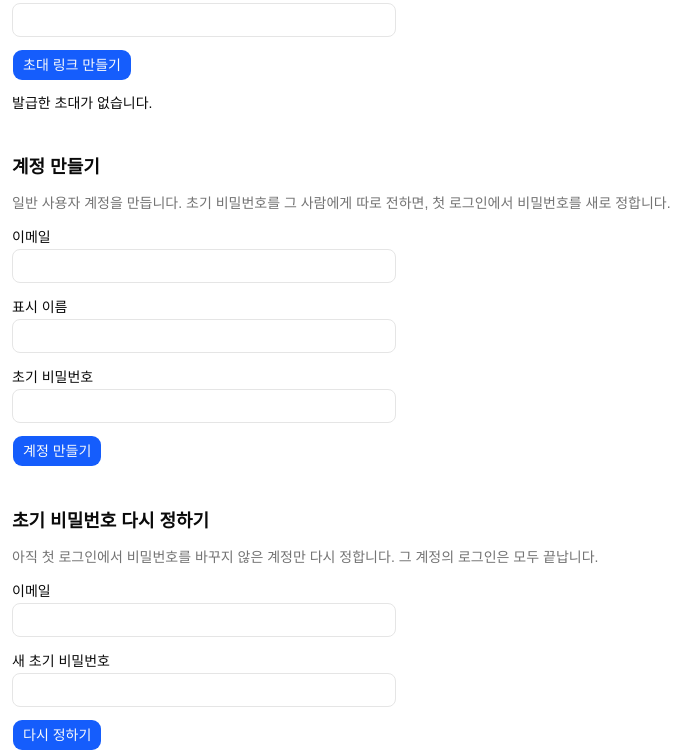
it: AccountsPage › 초기 비밀번호를 다시 정하거나, 바꾼 계정 · 없는 계정이면 그렇다고 알린다
(page scrolled)
In the 2nd field labelled "이메일": (204, 620) 12,603 -> 396,637, type "park@example.com"
In the password field labelled "새 초기 비밀번호": (204, 690) 12,673 -> 396,707, type "another initial horse"
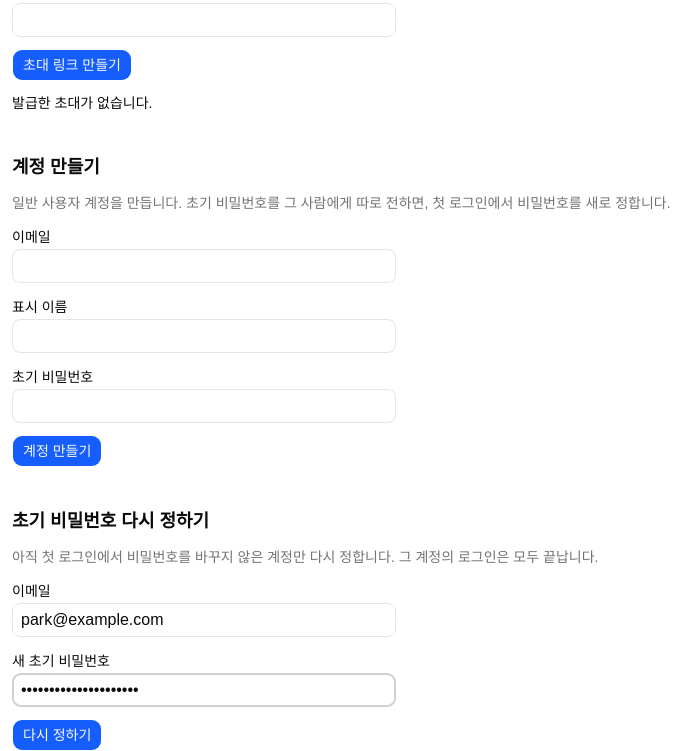
Click the button "다시 정하기": (57, 735) 12,719 -> 102,750
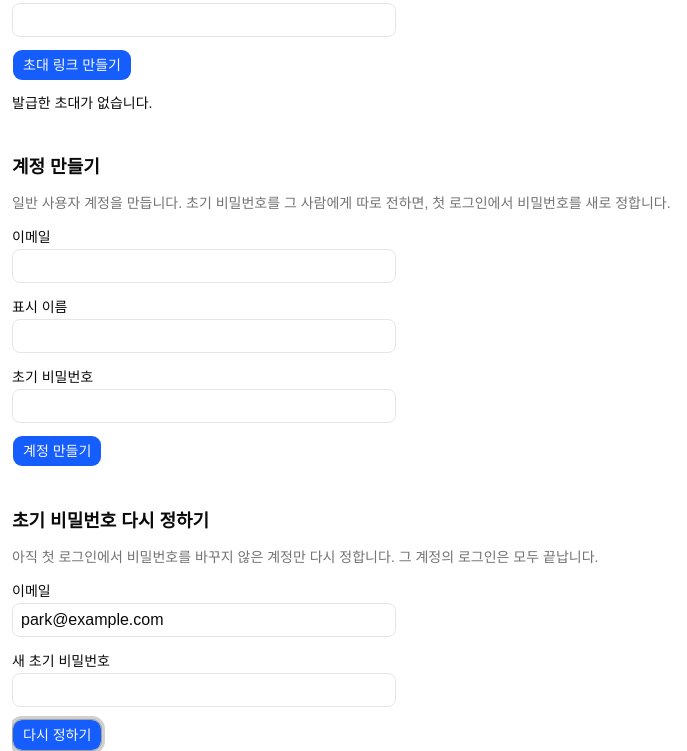
In the password field labelled "새 초기 비밀번호": (204, 690) 12,673 -> 396,707, type "another initial horse"
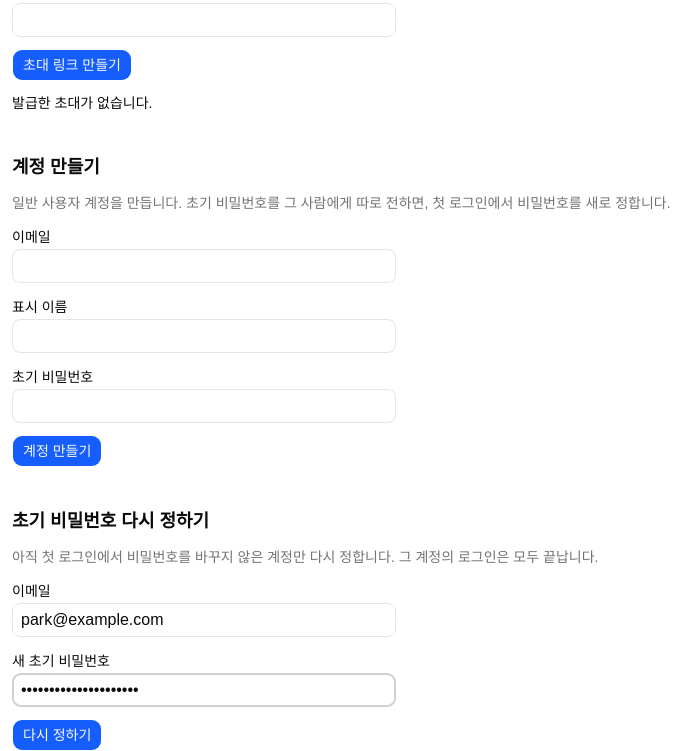
Click the button "다시 정하기": (57, 735) 12,719 -> 102,750
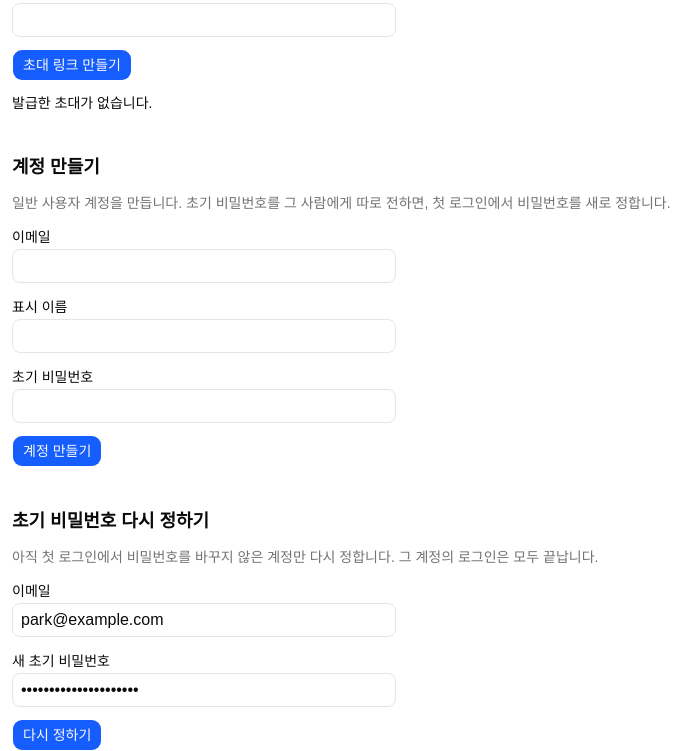
In the password field labelled "새 초기 비밀번호": (204, 690) 12,673 -> 396,707, type "another initial horse"
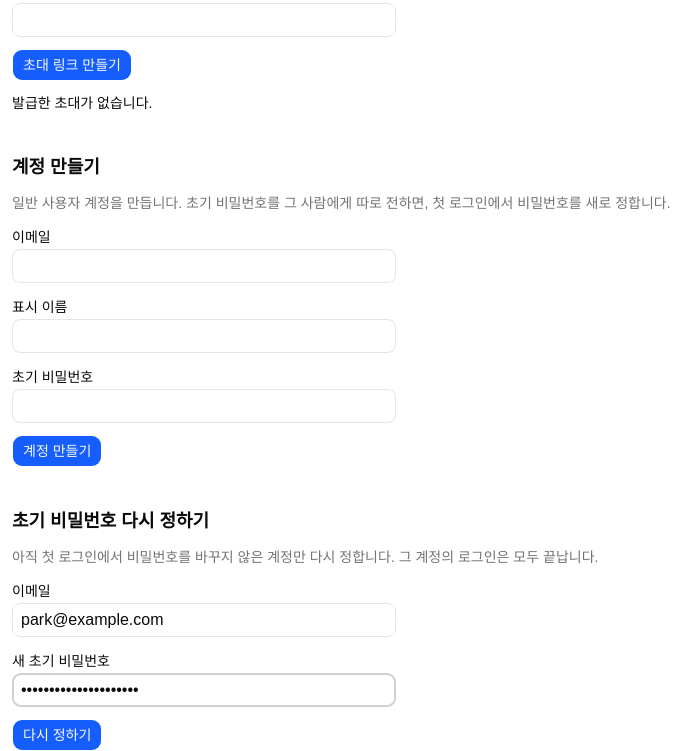
Click the button "다시 정하기": (57, 735) 12,719 -> 102,750
(page scrolled)
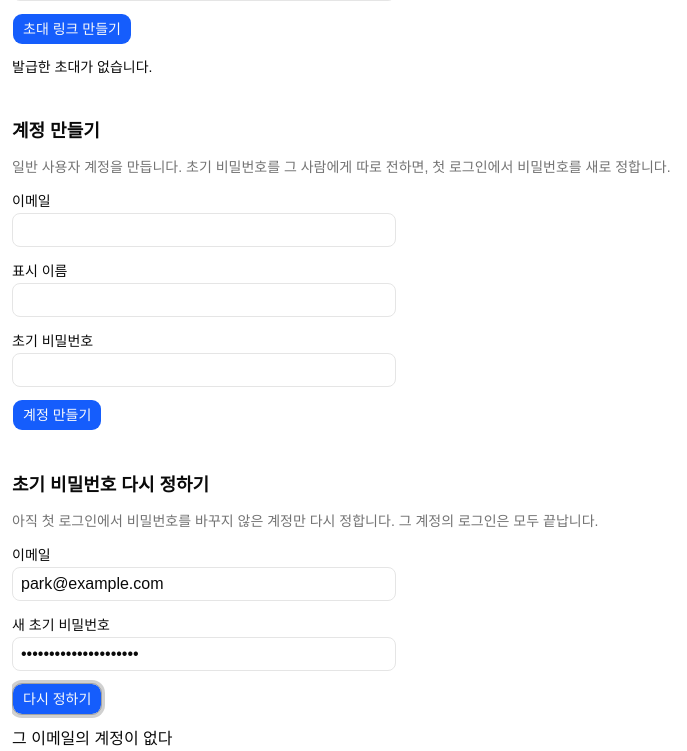
Expected: the text "그 이메일의 계정이 없다" is shown, 12,730 -> 172,747
